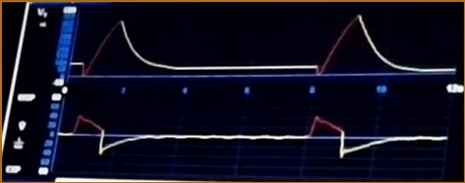Flow: (65, 110, 443, 177)
Leakage Volume: (71, 16, 451, 82)
